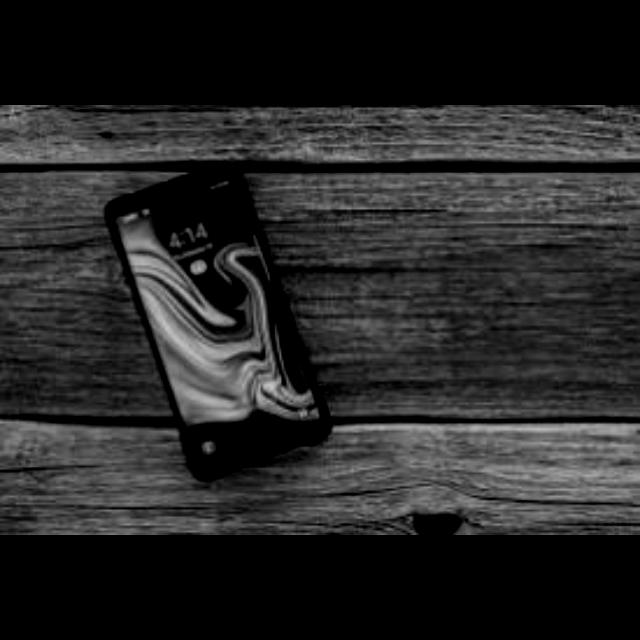fake: (66, 156, 360, 498)
